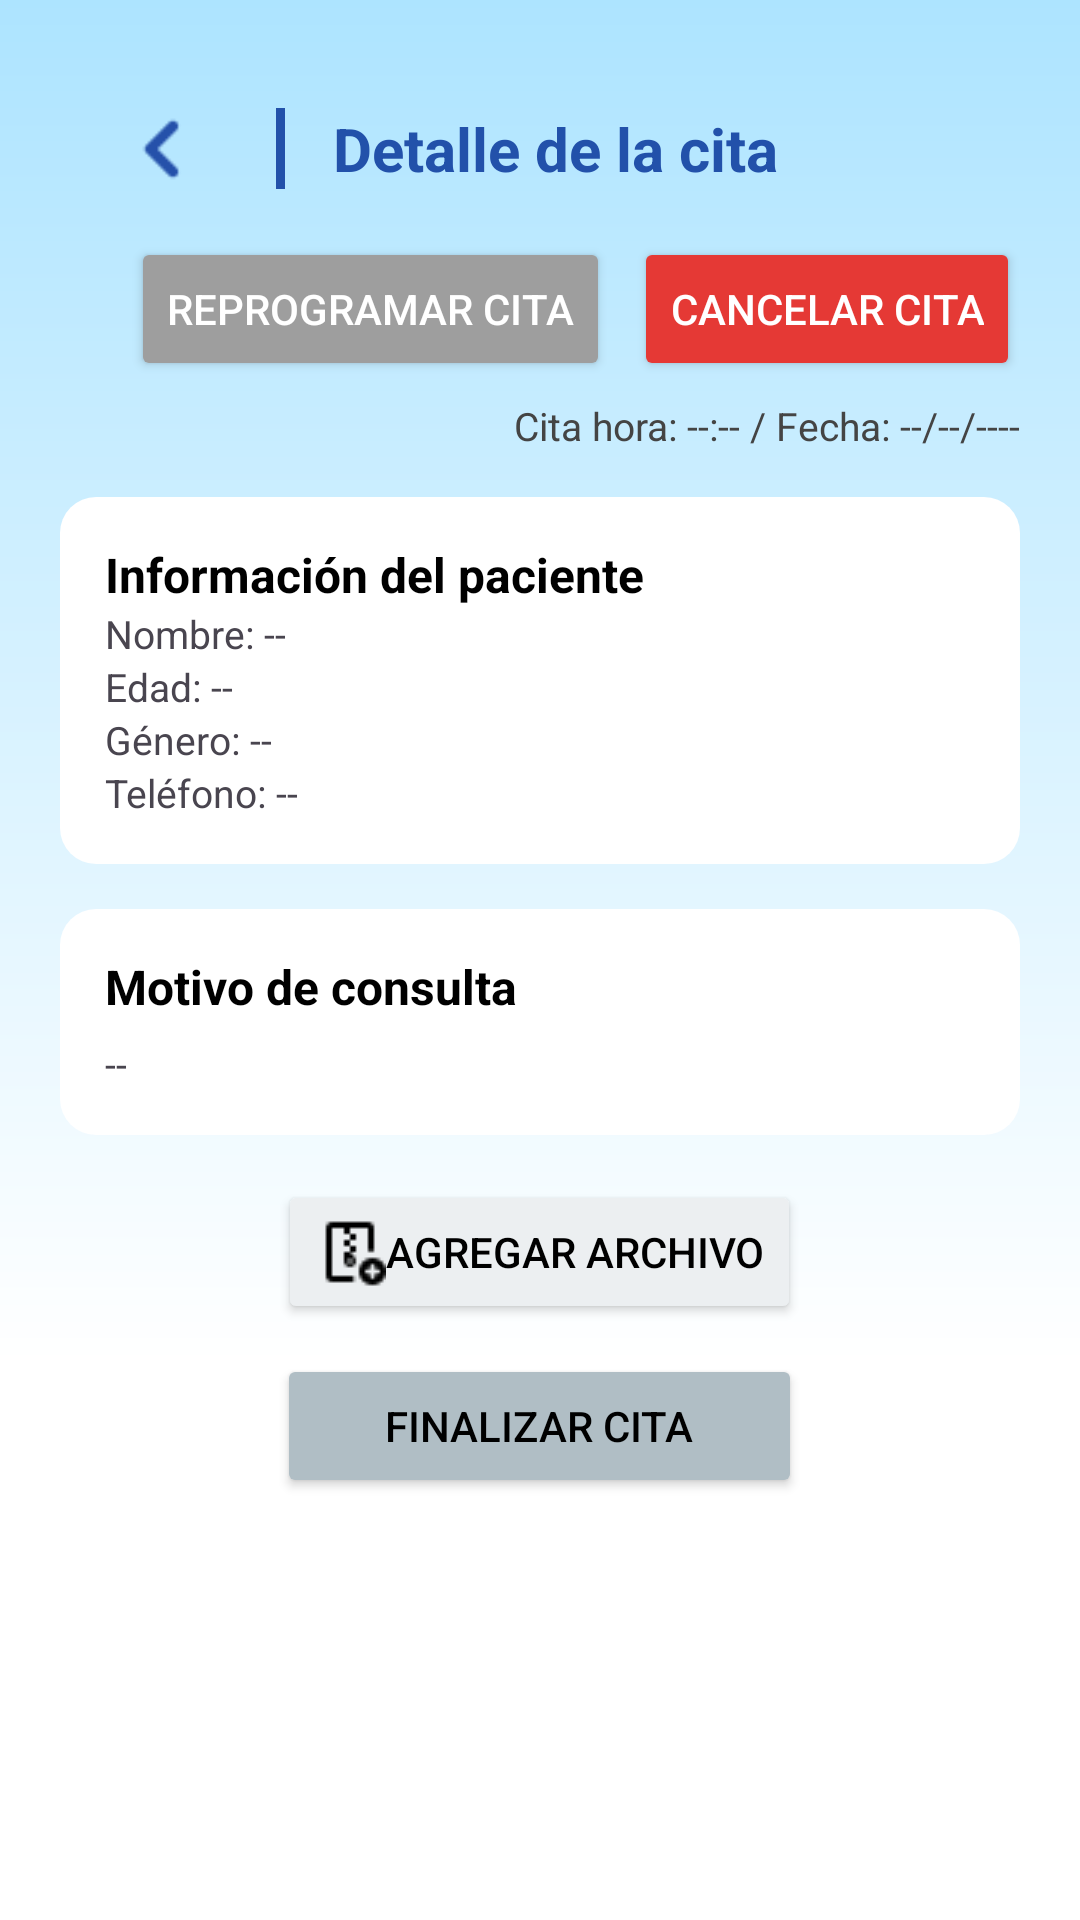

Icon click points for this 1080px×1920px phone screenshot, format (x=x, y=y):
atras: (x=161, y=149)
